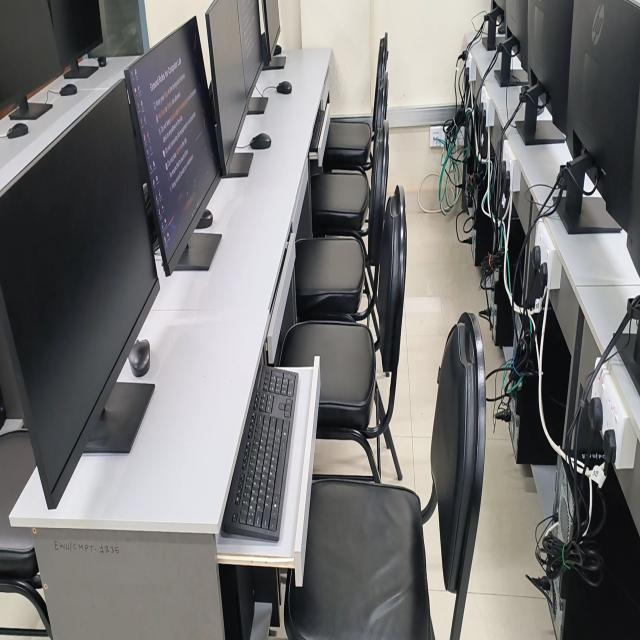Chair: (284, 313, 486, 639), (280, 191, 406, 480), (294, 121, 389, 321), (322, 33, 388, 172), (311, 171, 369, 231)
Cpu: (549, 465, 640, 639), (509, 311, 556, 465), (543, 305, 571, 445), (551, 460, 573, 552)
Keyboard: (223, 361, 299, 540)
Monitor: (0, 79, 159, 507), (124, 18, 220, 274), (566, 0, 640, 230), (205, 0, 263, 174), (528, 0, 574, 132), (0, 0, 56, 96), (48, 0, 103, 71), (505, 0, 528, 70), (261, 0, 280, 68)
Mouse: (127, 340, 150, 376), (196, 209, 213, 229), (250, 133, 271, 149), (277, 81, 292, 94)
